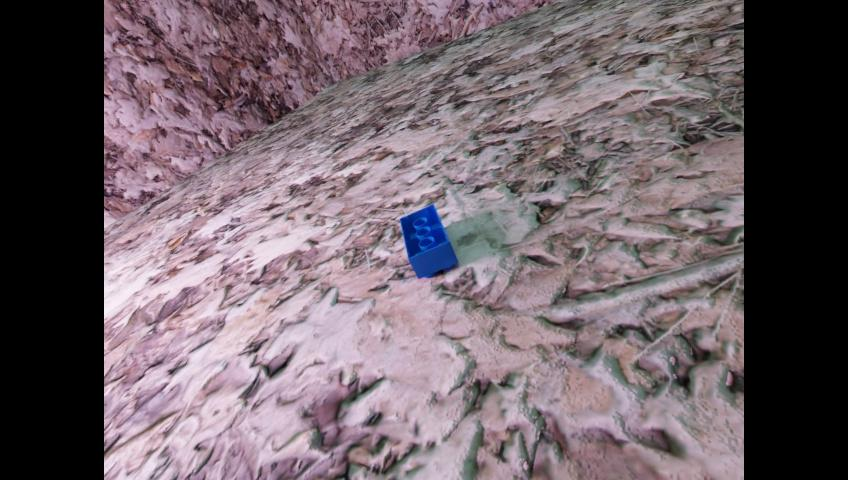4x2_blue: (399, 203, 457, 278)
